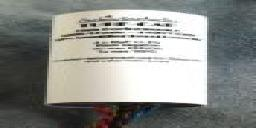Electrolytic-capacitor: (44, 8, 212, 128)
